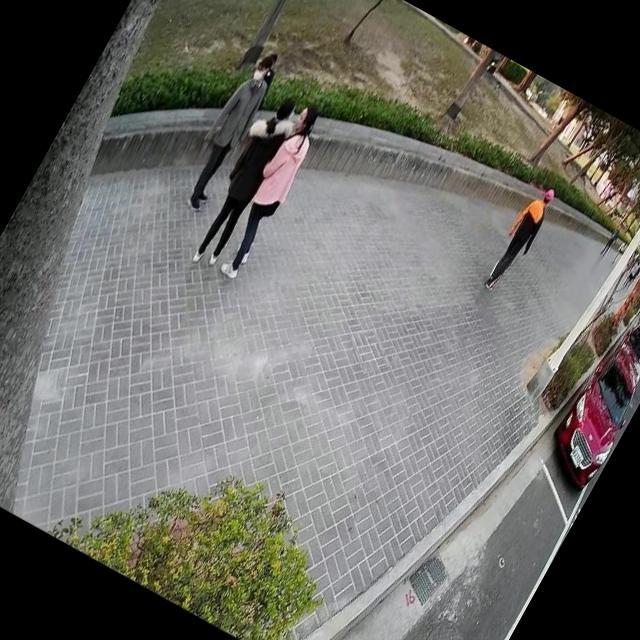person: (176, 80, 310, 276), (206, 90, 336, 286), (168, 44, 286, 216), (476, 175, 566, 302), (597, 219, 626, 260), (607, 235, 631, 268)
